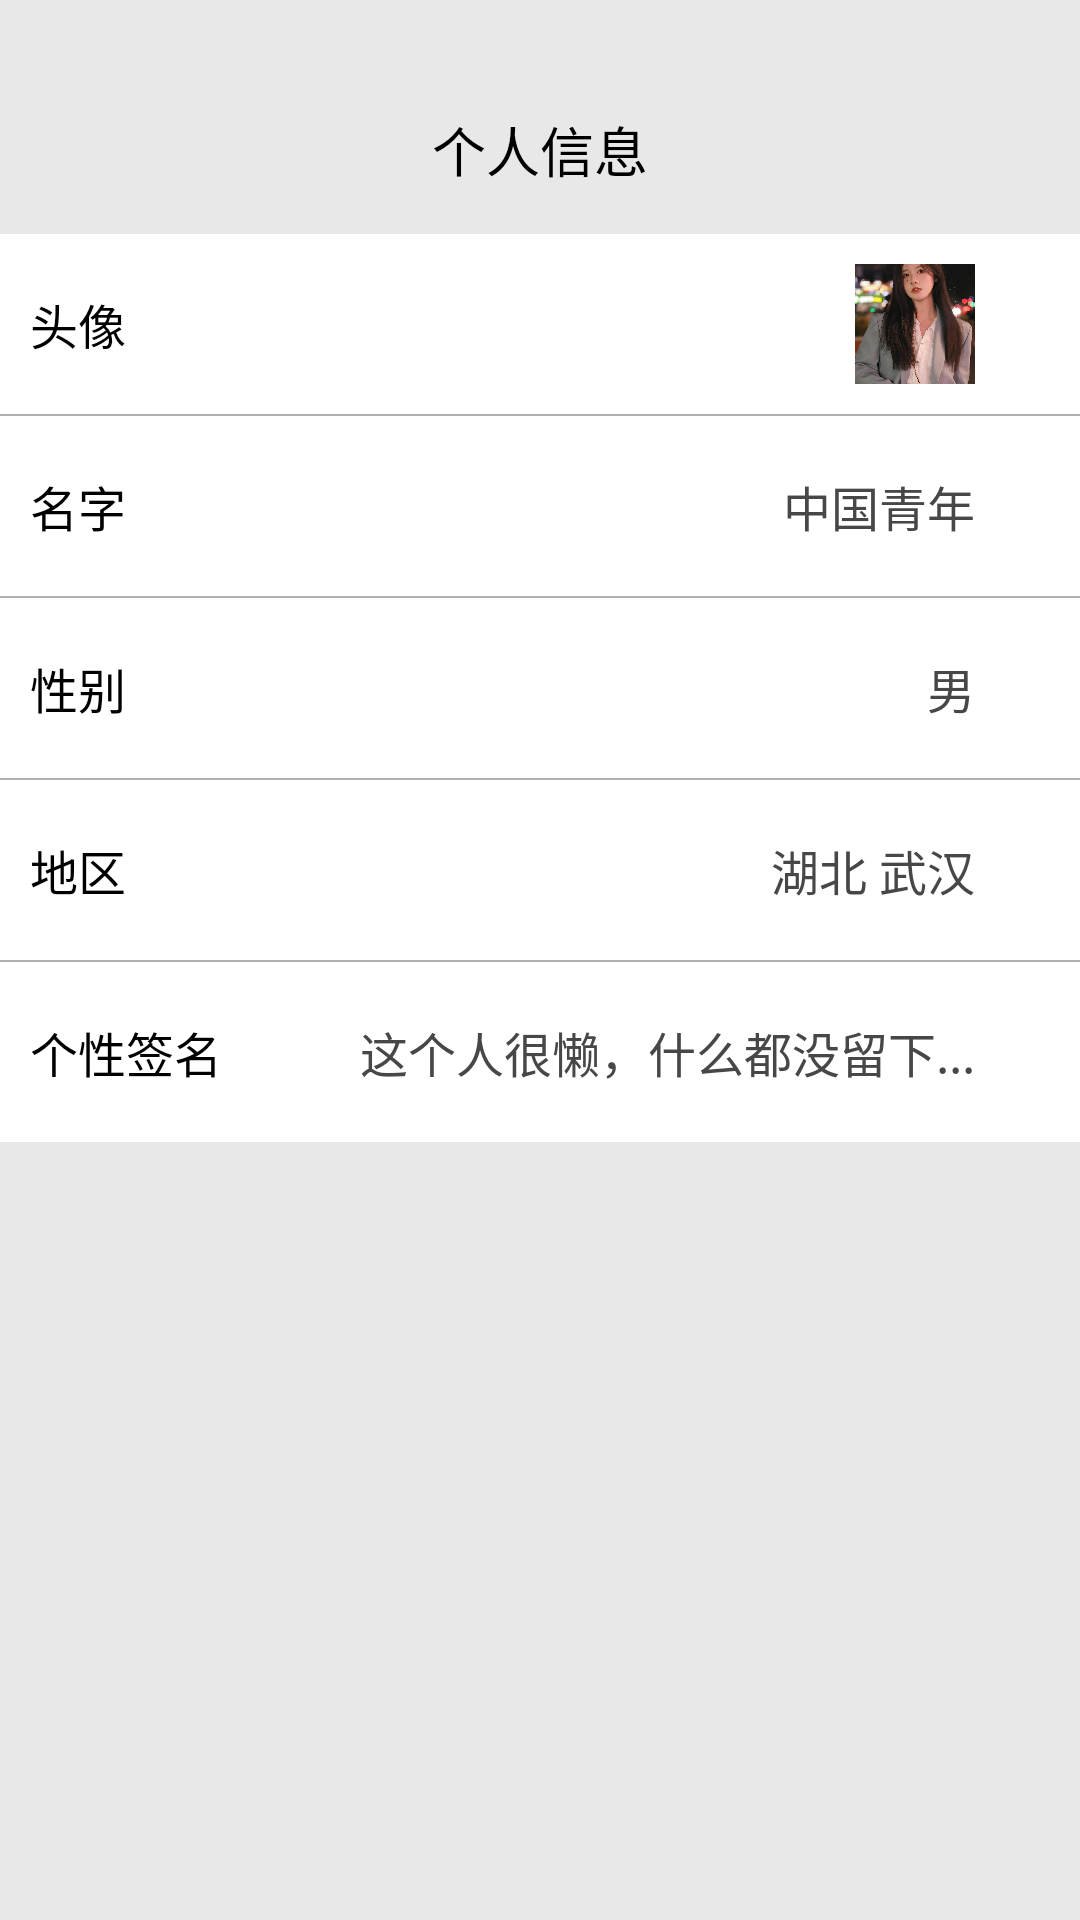

Screen size 1080 × 1920. Icon name, then its box in pixels as (x1, y1, x2, y2):
head picture: (855, 264, 975, 384)
